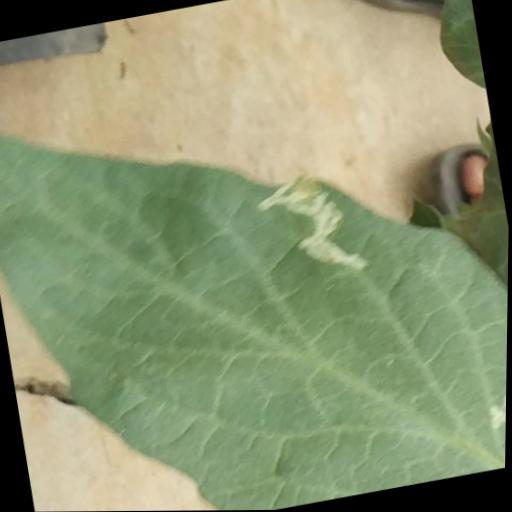Leaf_Miner: (0, 37, 512, 512)
